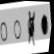correct: (37, 13, 51, 37)
no answer: (10, 17, 25, 42)
not correct: (21, 7, 42, 50)
